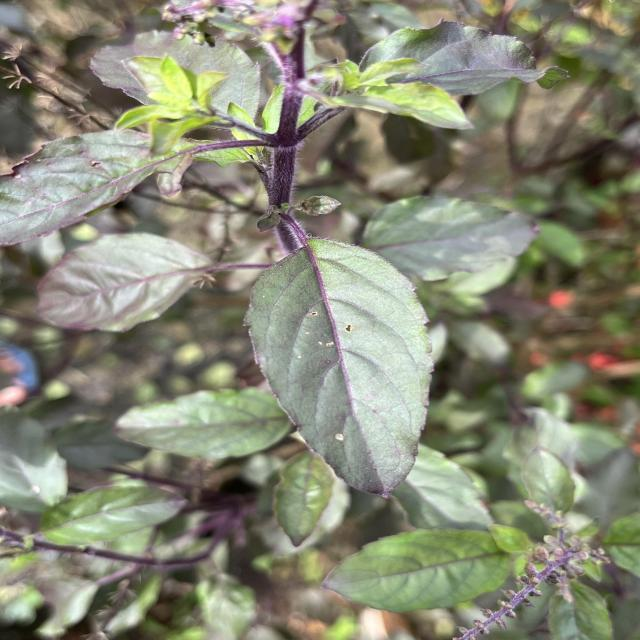Ocimum tenuiflorum: (240, 238, 437, 502)
